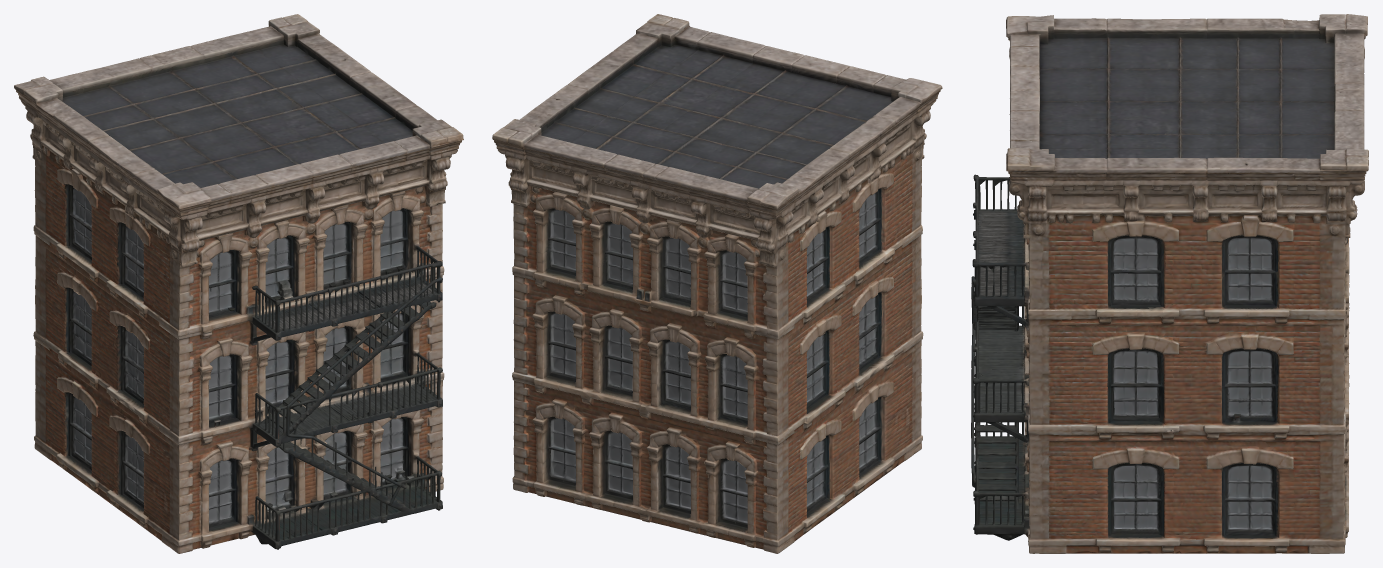
Rendered from building-crown.glb.
3 views of the same model, side by side, from view 1: azimuth 30°, elevation 25°; view 2: azimuth 150°, elevation 25°; view 3: azimuth 270°, elevation 25° (orthographic). The views are drawn at different scales.
Parts seen in each view (by area): view 1: tripo_node_6e465660-ace4-45e6-9c35-1fb627591258; view 2: tripo_node_6e465660-ace4-45e6-9c35-1fb627591258; view 3: tripo_node_6e465660-ace4-45e6-9c35-1fb627591258.
Part boxes in pixels (<box>): tripo_node_6e465660-ace4-45e6-9c35-1fb627591258: <box>14,14,463,553</box>; tripo_node_6e465660-ace4-45e6-9c35-1fb627591258: <box>492,14,942,553</box>; tripo_node_6e465660-ace4-45e6-9c35-1fb627591258: <box>971,14,1368,553</box>.
Bounding box in the file's own units: 0.8095 × 0.9811 × 0.8946.
Materials: 1 (1 with a texture image).
